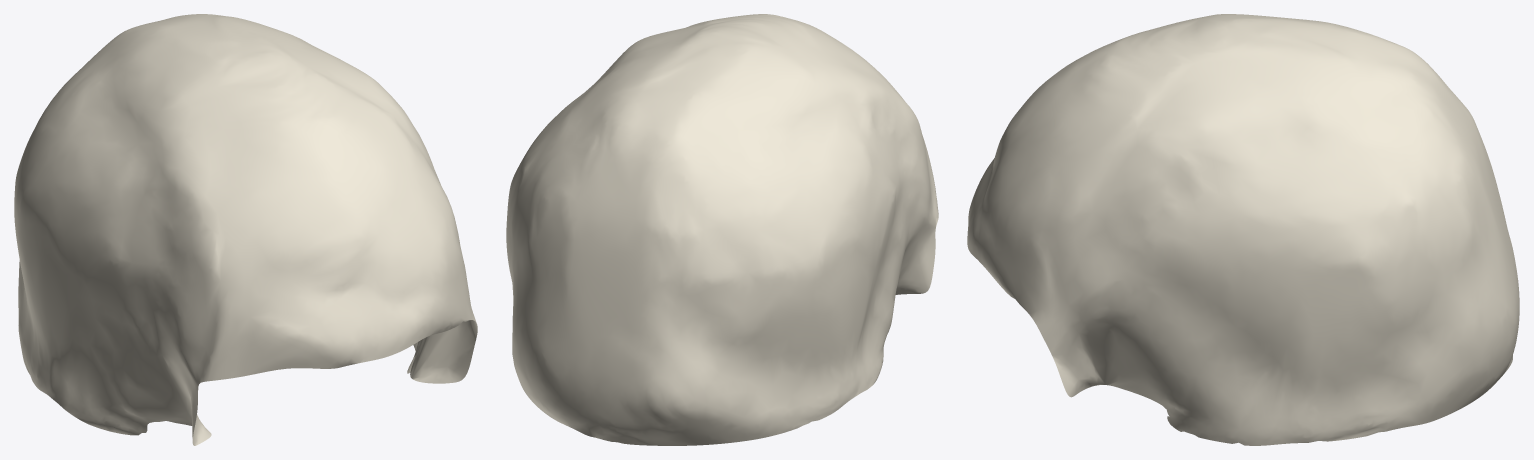
The model's file is skull.glb.
3 views of the same model, side by side, from view 1: azimuth 30°, elevation 25°; view 2: azimuth 150°, elevation 25°; view 3: azimuth 270°, elevation 25° (orthographic). The views are drawn at different scales.
Parts seen in each view (by area): view 1: bone.skull; view 2: bone.skull; view 3: bone.skull.
Part boxes in pixels (bbox=[...]): bone.skull: bbox=[14, 14, 477, 445]; bone.skull: bbox=[506, 14, 938, 445]; bone.skull: bbox=[967, 14, 1519, 445].
Bounding box in the file's own units: 0.1364 × 0.1255 × 0.1895.
